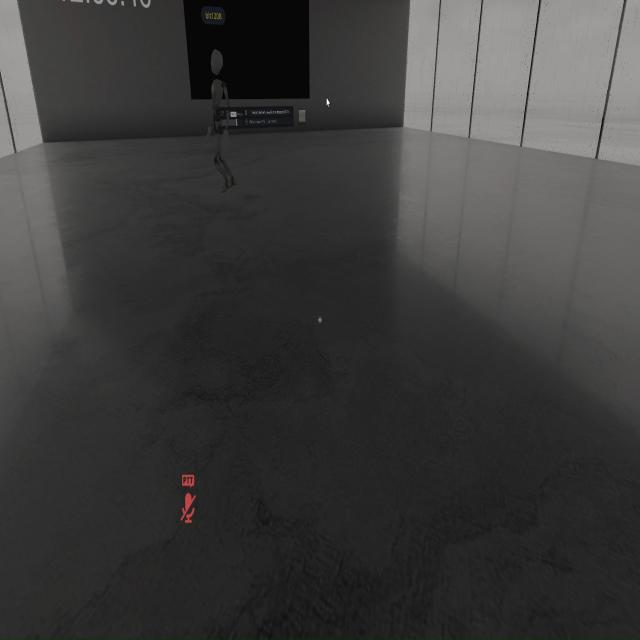human: (200, 36, 237, 193)
